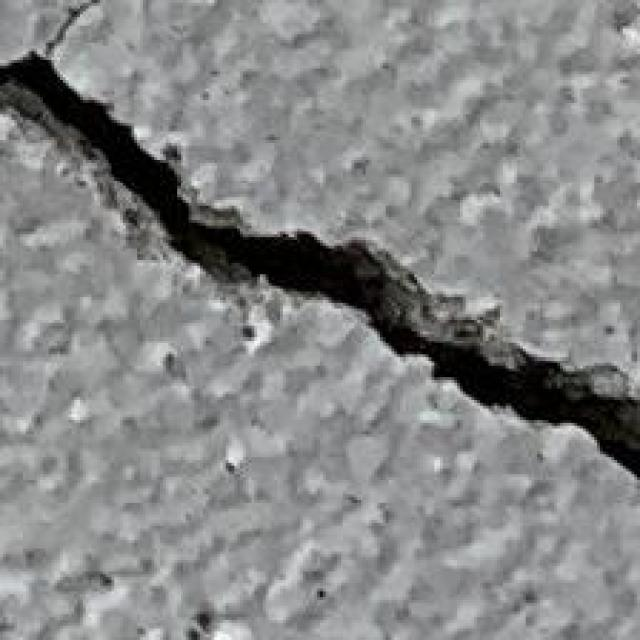Crack: (3, 9, 640, 474)
